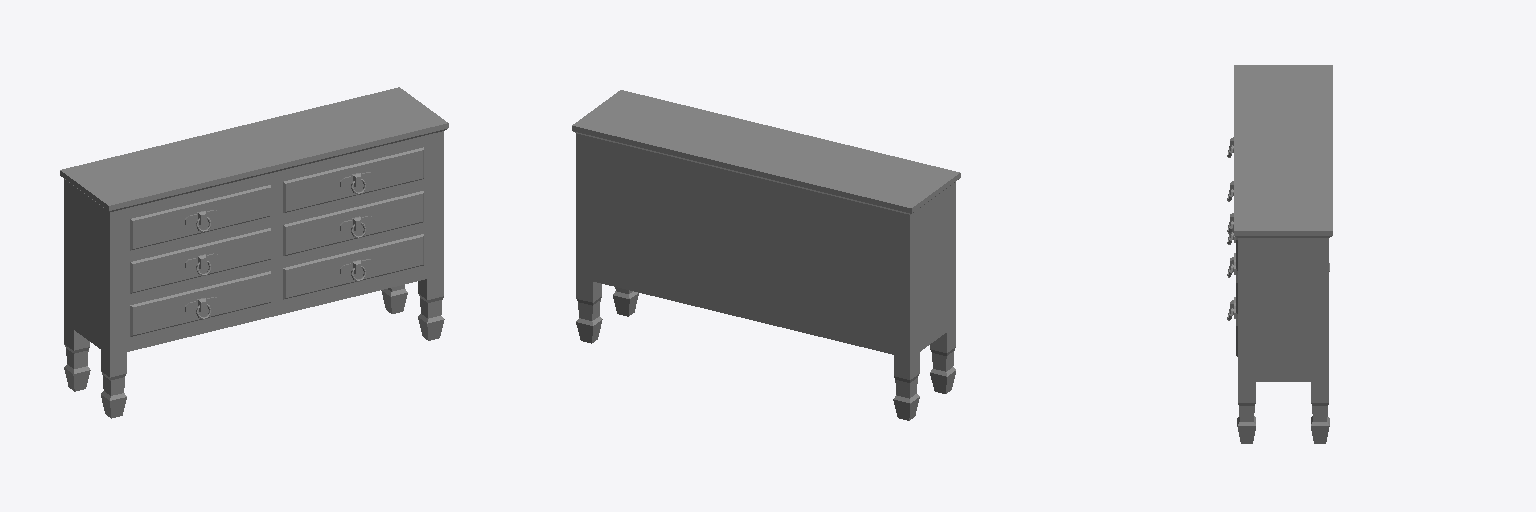
Rendered from buroese.obj.
The picture shows the model from 3 angles: view 1: azimuth 30°, elevation 25°; view 2: azimuth 150°, elevation 25°; view 3: azimuth 270°, elevation 25°; orthographic projection.
Parts seen in each view (by area): view 1: Default001; view 2: Default001; view 3: Default001.
Part boxes in pixels (x1,y1,x2,y2): Default001: (60, 87, 448, 418); Default001: (572, 90, 960, 420); Default001: (1227, 65, 1332, 443).
Bounding box in the file's own units: 6.04 × 3.68 × 1.62.